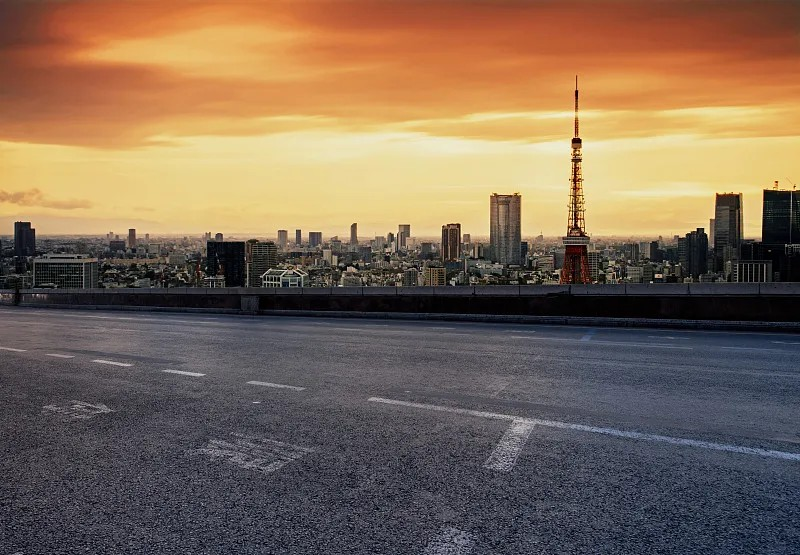Tokyo: (559, 72, 591, 283)
